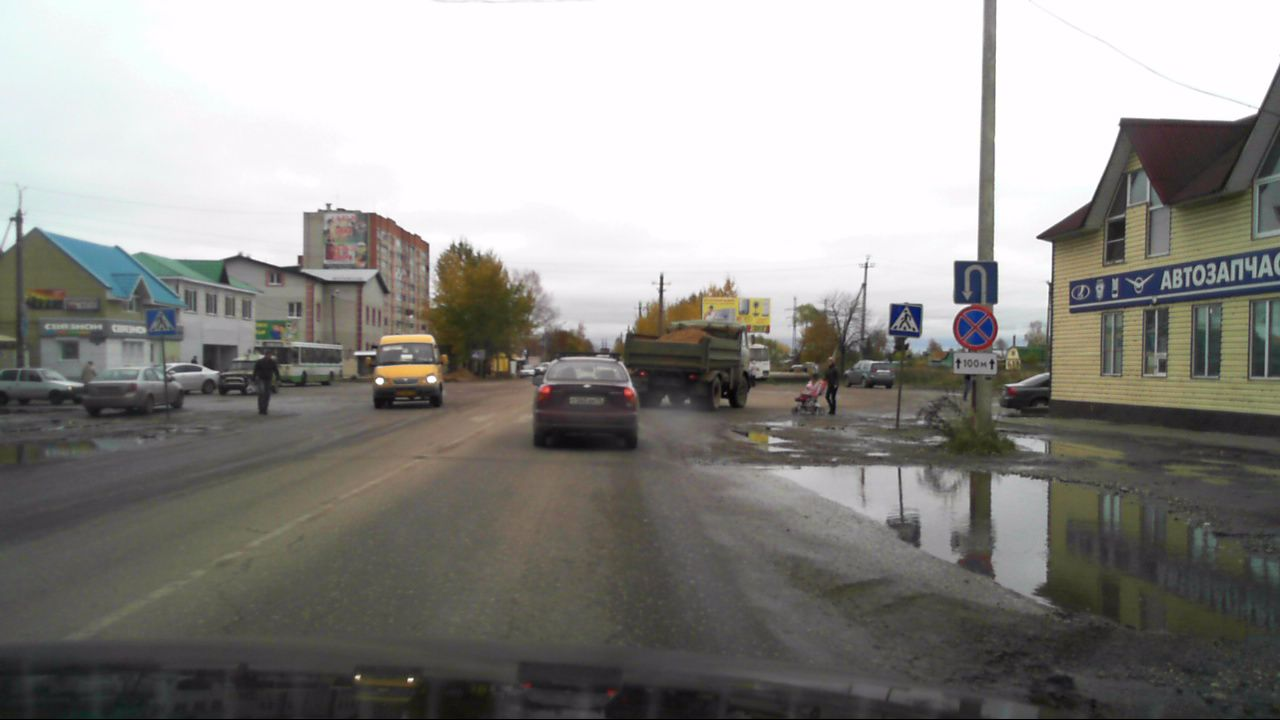No Parking: (953, 306, 998, 349)
Pedestrian Crossing: (890, 305, 921, 336), (146, 310, 175, 335)
U-turn: (954, 261, 998, 304)
